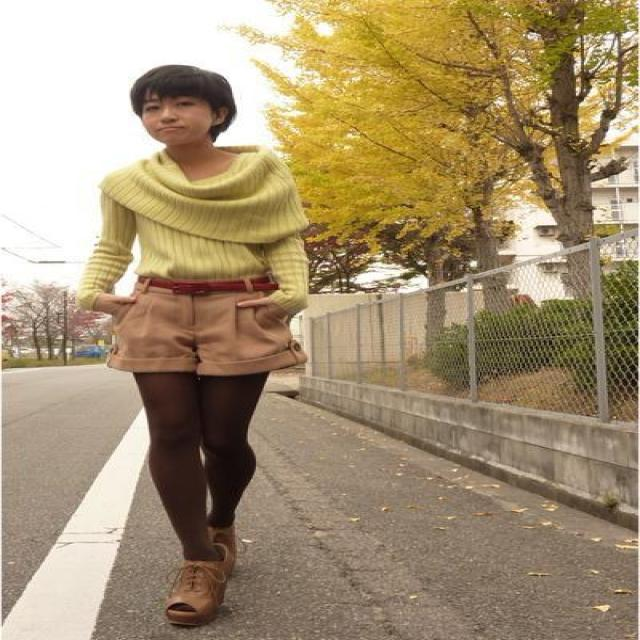jacket: (74, 141, 314, 302)
shoe: (154, 527, 235, 610)
shorts: (96, 269, 306, 375)
